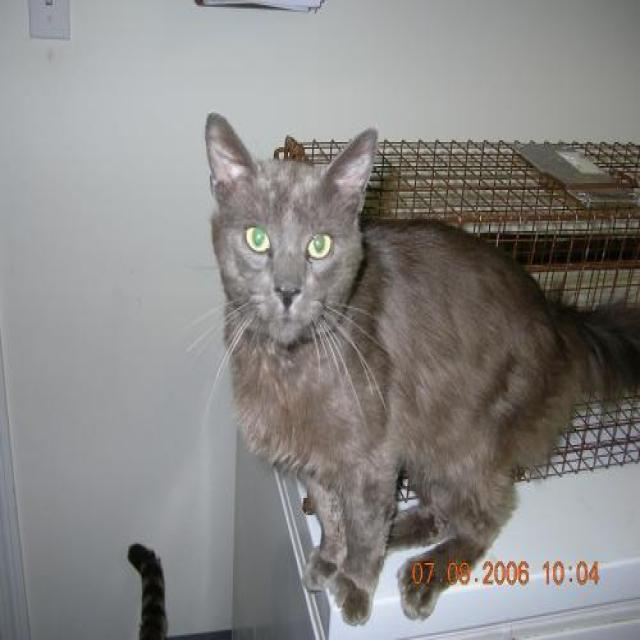Cats: (188, 109, 639, 626)
